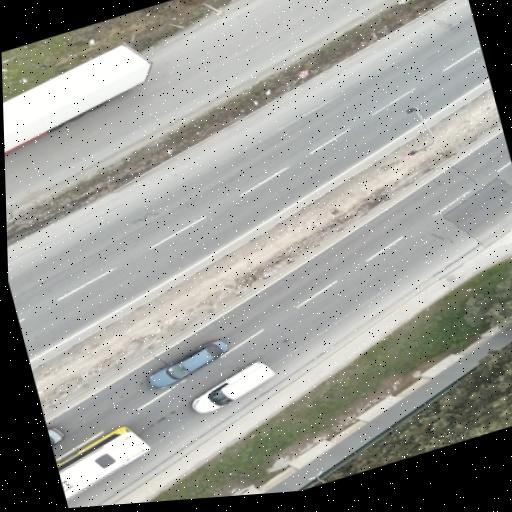bus: (57, 426, 149, 499)
car: (192, 362, 274, 412), (148, 339, 227, 387), (48, 427, 63, 445)
truck: (3, 44, 150, 153)
